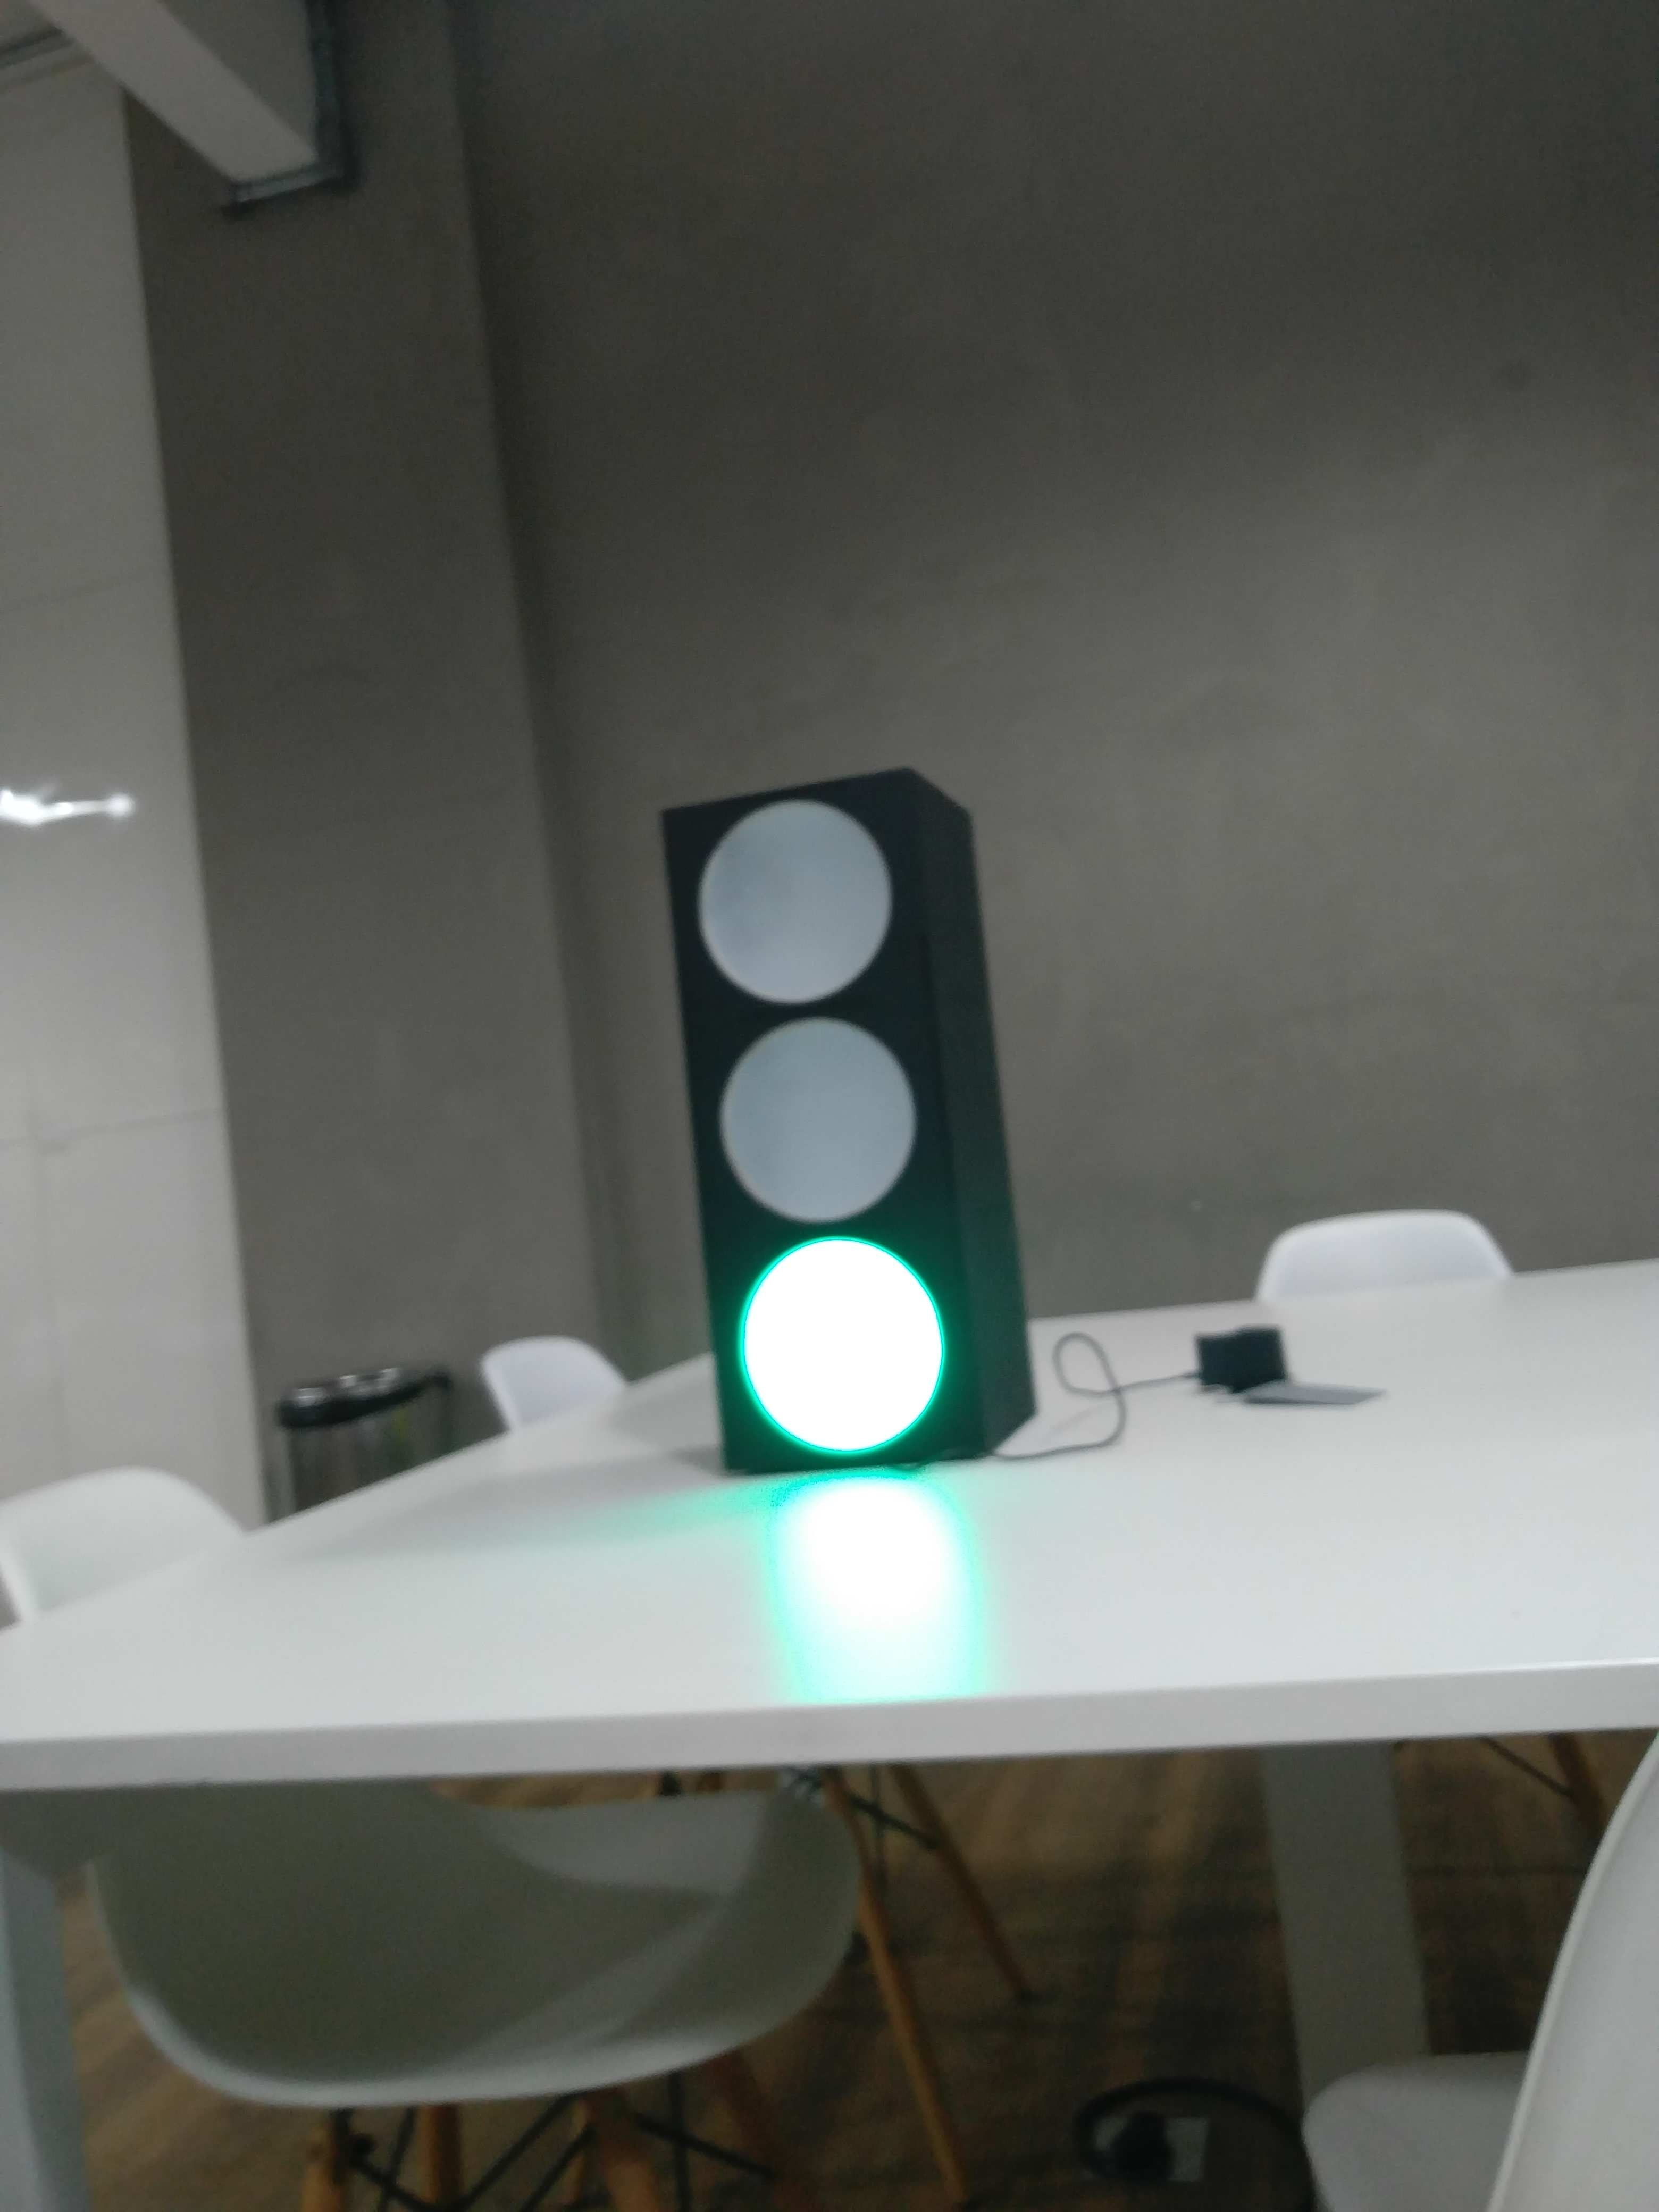go: (636, 747, 1044, 1489)
